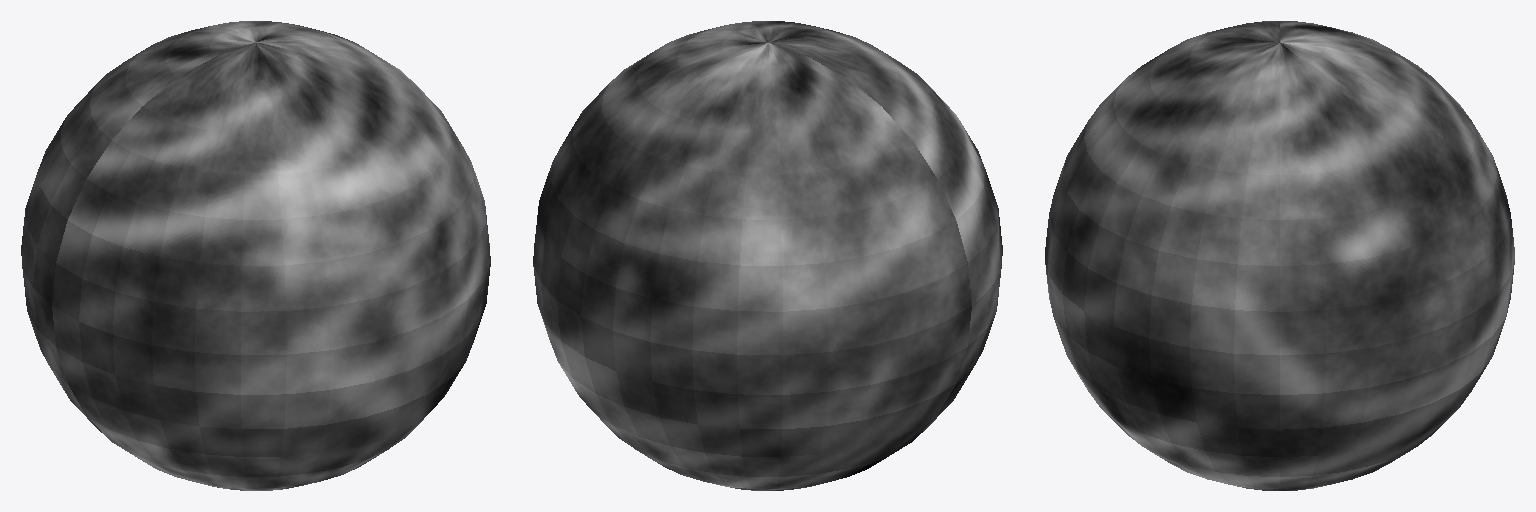
3 views of the same model, side by side, from view 1: azimuth 30°, elevation 25°; view 2: azimuth 150°, elevation 25°; view 3: azimuth 270°, elevation 25° (orthographic).
Visible parts, largest first — view 1: 球; view 2: 球; view 3: 球.
Part boxes in pixels (bbox=[...]): 球: bbox=[21, 21, 490, 490]; 球: bbox=[533, 21, 1002, 490]; 球: bbox=[1045, 21, 1514, 490].
Size of the model in its own units: 29.16 by 29.16 by 29.16.
Materials: 1 (1 with a texture image).